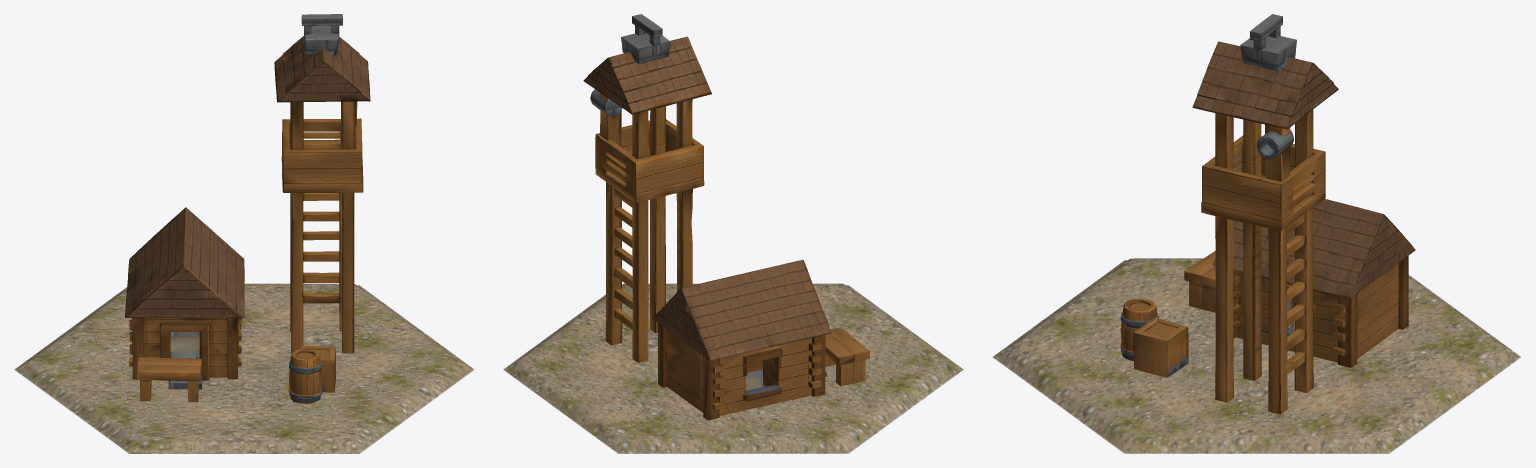
File: scouts-lodge.glb
The picture shows the model from 3 angles, left to right: view 1: azimuth 30°, elevation 25°; view 2: azimuth 150°, elevation 25°; view 3: azimuth 270°, elevation 25°; orthographic projection. The views are drawn at different scales.
Parts seen in each view (by area): view 1: ground, architecture; view 2: architecture, ground; view 3: architecture, ground.
Boxes of the visible parts, x1=… form: ground: x1=14, y1=283, x2=474, y2=453; architecture: x1=125, y1=14, x2=370, y2=403; architecture: x1=583, y1=14, x2=869, y2=420; ground: x1=503, y1=283, x2=963, y2=453; architecture: x1=1120, y1=14, x2=1415, y2=414; ground: x1=992, y1=258, x2=1521, y2=453.
Size of the model in its own units: 1.59 by 1.46 by 1.84.
2 materials, 2 textured.
